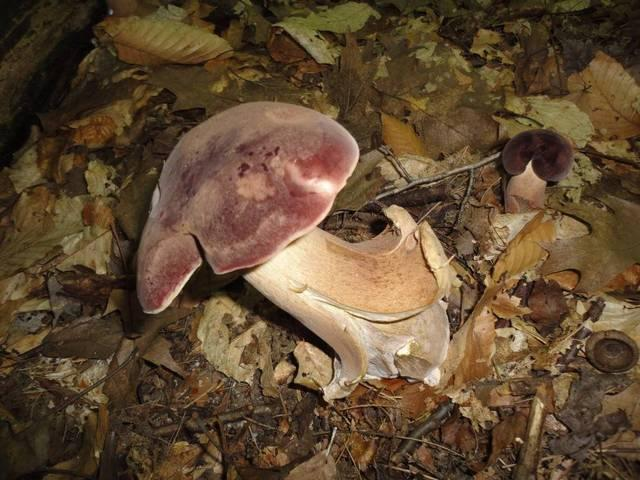poisonous_mushroom: (133, 99, 456, 401)
